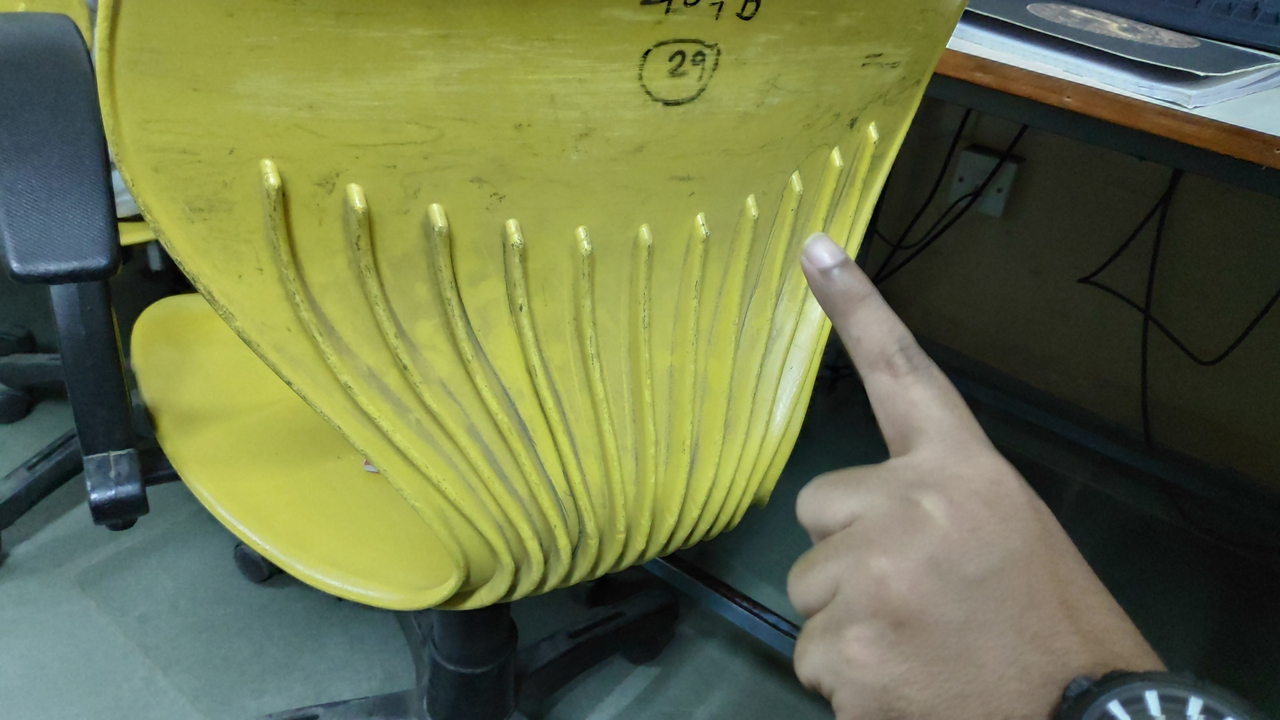fingertip: (792, 222, 858, 288)
